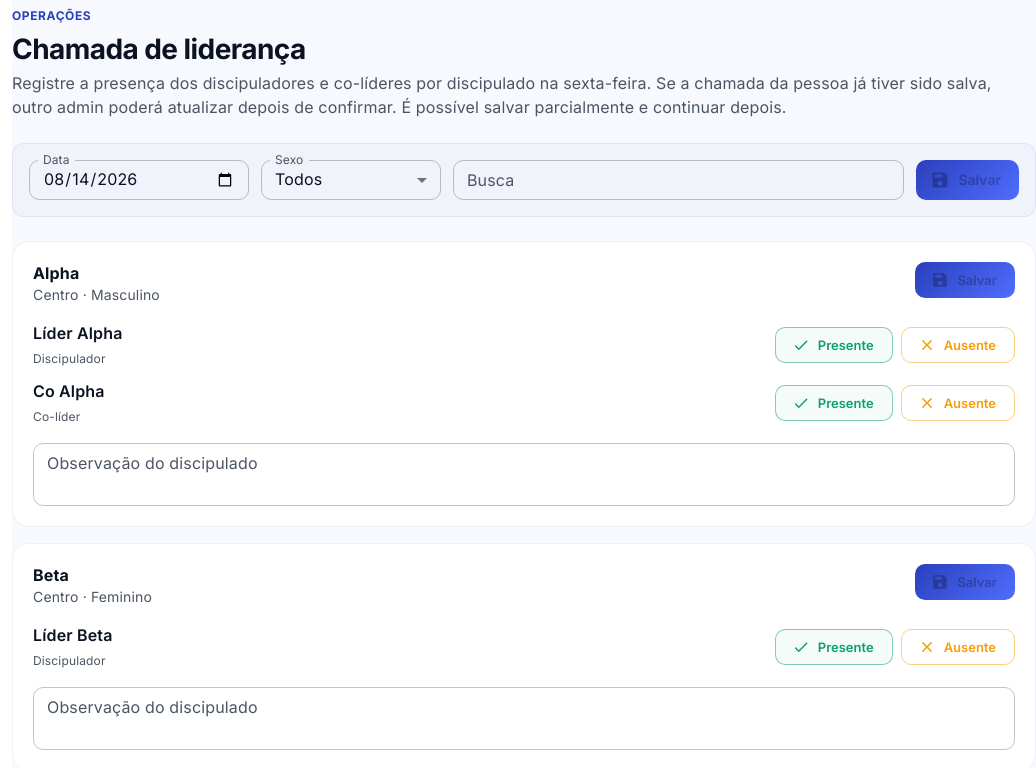
it: chamada de liderança › salva somente os líderes já marcados
Check: the text "Líder Alpha" is shown, box [33,321,122,345]
Click the button "Presente" in the row of "Líder Alpha" at x=834, y=345, box [775,327,893,363]
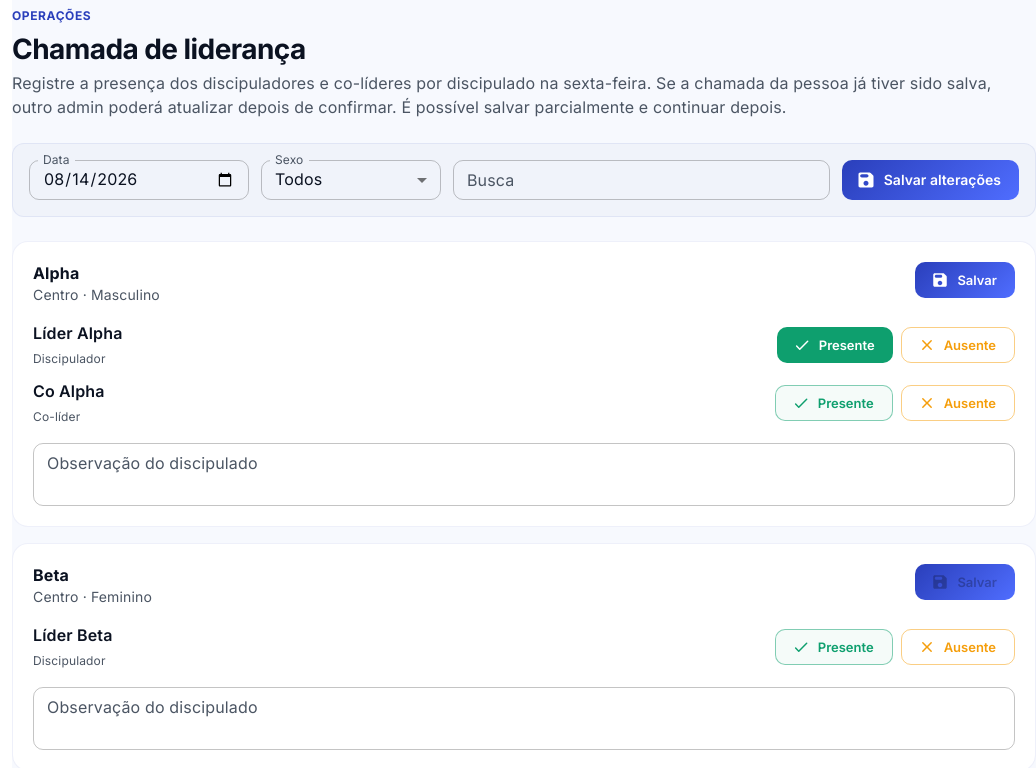
Click the button "Salvar alterações" at x=930, y=180, box [842,160,1019,200]
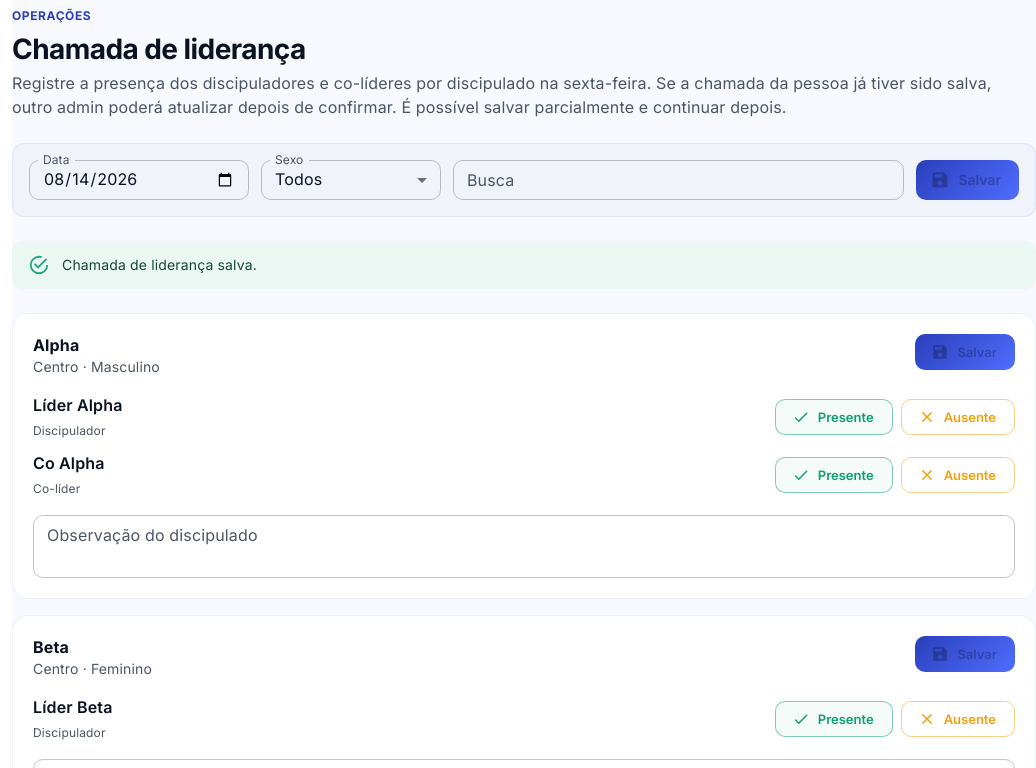
Check: the text "Chamada de liderança salva." is shown, box [62,256,257,273]
